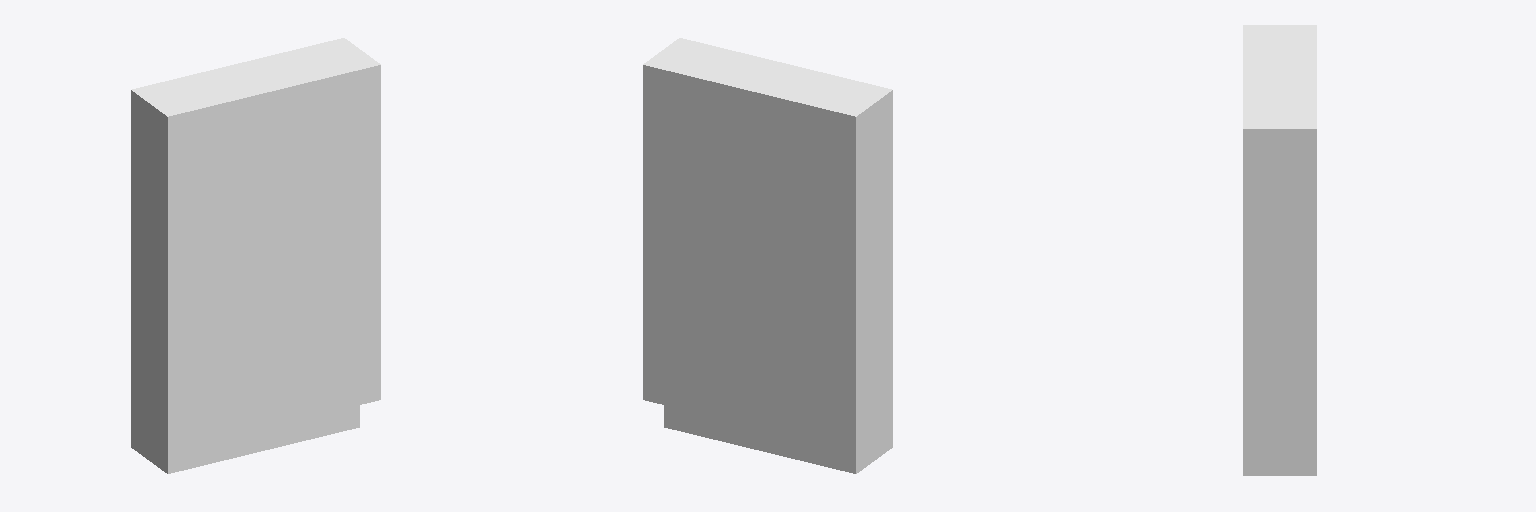
The model's file is GameBoy.obj.
3 renders of one model, left to right at view 1: azimuth 30°, elevation 25°; view 2: azimuth 150°, elevation 25°; view 3: azimuth 270°, elevation 25°, orthographic.
Parts seen in each view (by area): view 1: GameBoy; view 2: GameBoy; view 3: GameBoy.
Boxes of the visible parts, x1,y1,x2,y2 form: GameBoy: [131, 38, 380, 473]; GameBoy: [643, 38, 892, 473]; GameBoy: [1243, 25, 1316, 475].
Bounding box in the file's own units: 10 × 16 × 3.